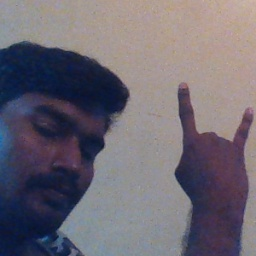V: (168, 81, 256, 208)
